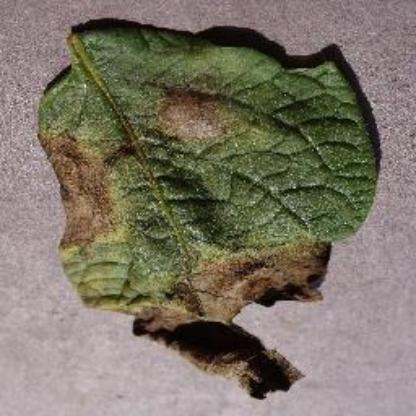Late-Blight: (27, 17, 385, 400)
